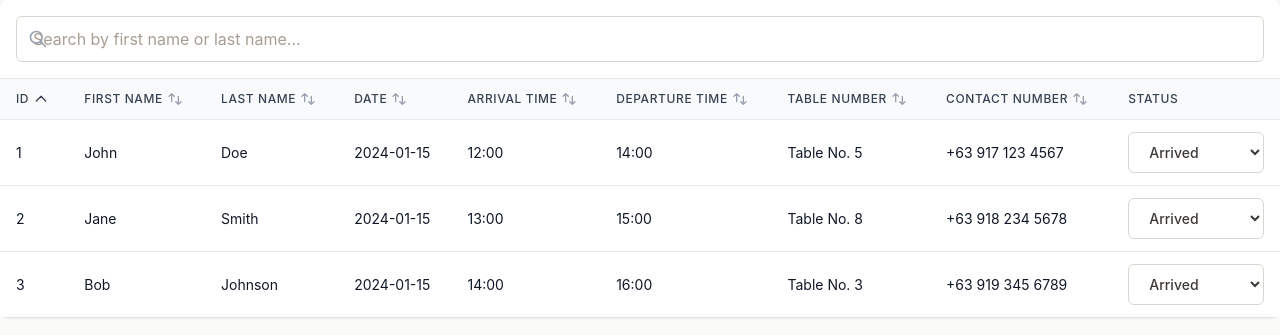
it: OngoingTable › should filter reservations by last name
Type "Smith" into the field with placeholder "Search by first name or last name..." at (640, 39), box [16,16,1264,62]
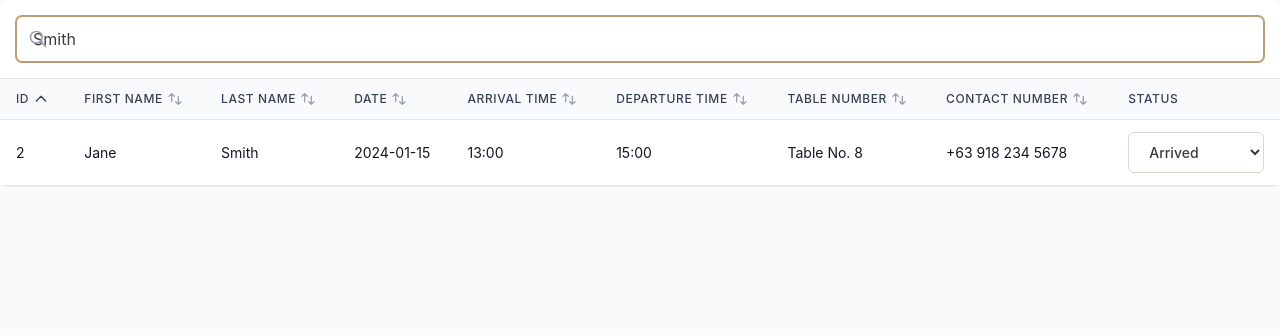
Expected: the text "Jane" is shown, [68,120,205,185]
Result: the text "John" is gone
